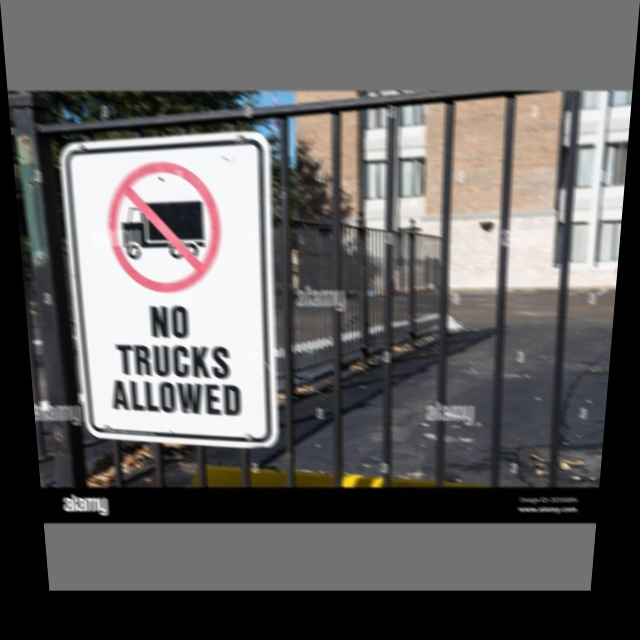Truck_Prohibited: (96, 150, 227, 302)
